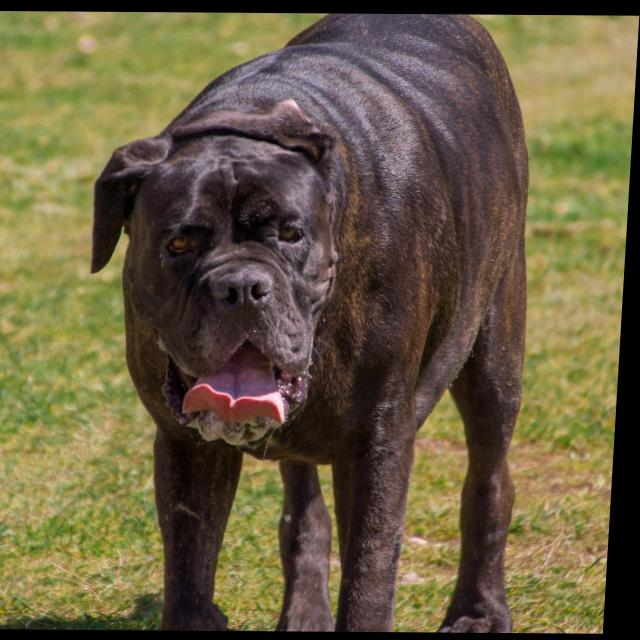mastino_napoletano: (76, 13, 550, 633)
